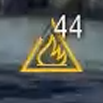1fire: (14, 36, 84, 77)
